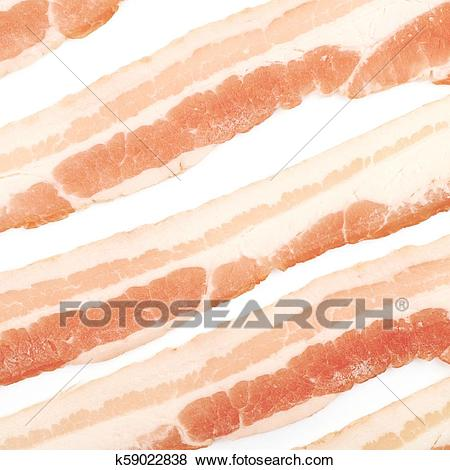bacon: (25, 109, 419, 302), (96, 338, 442, 450), (177, 17, 450, 109)
